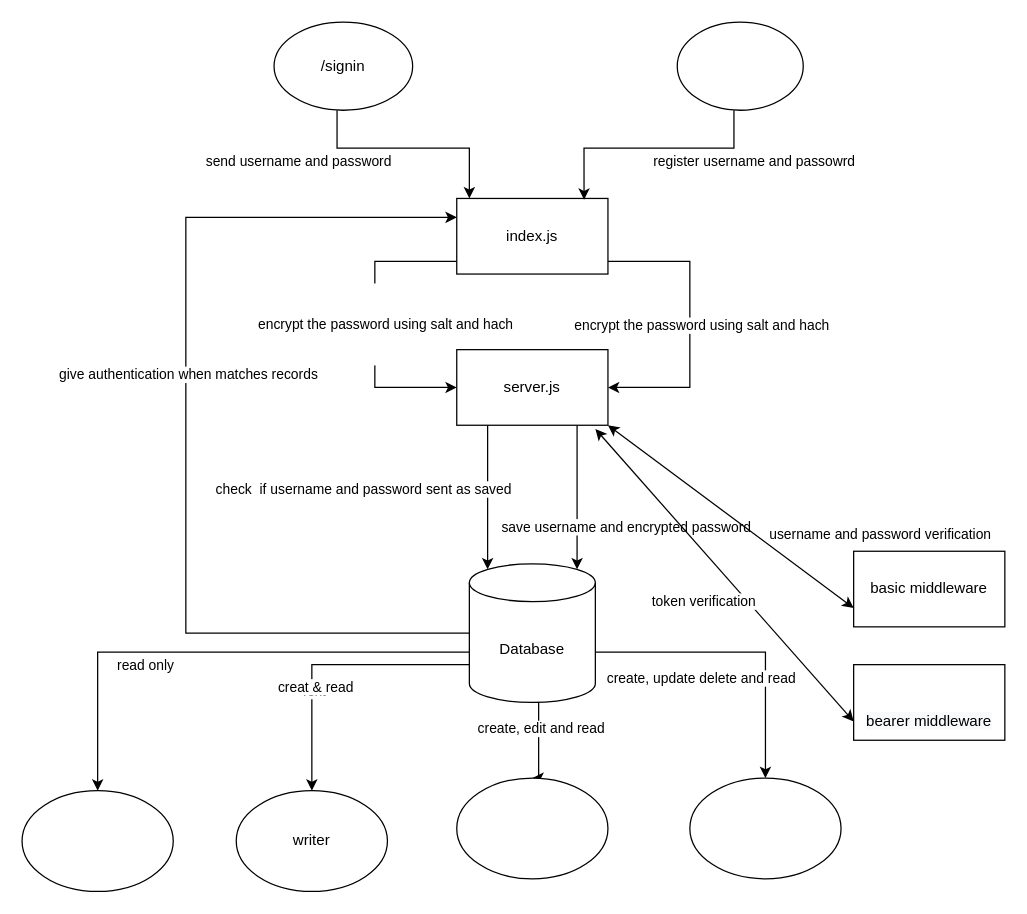
This 1027x914 diagram has some shape labels left out. The box of each missing label's shape, as (x1, y1, x2, y2) in pixels:
/signup: (676, 21, 803, 110)
admin: (689, 777, 841, 879)
editor: (455, 777, 608, 879)
user: (21, 789, 173, 891)
